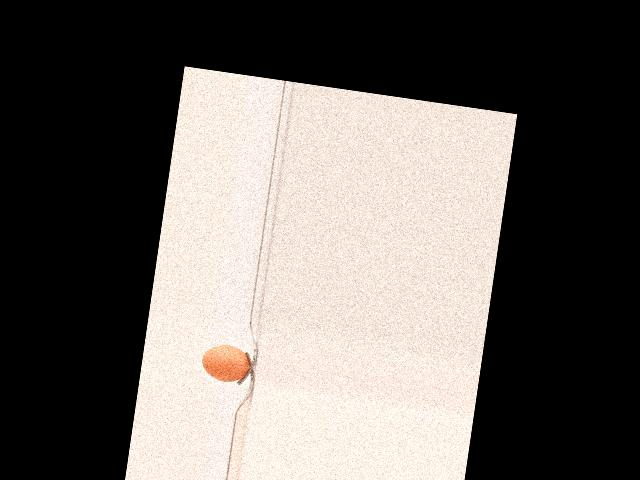egg: (200, 341, 251, 384)
